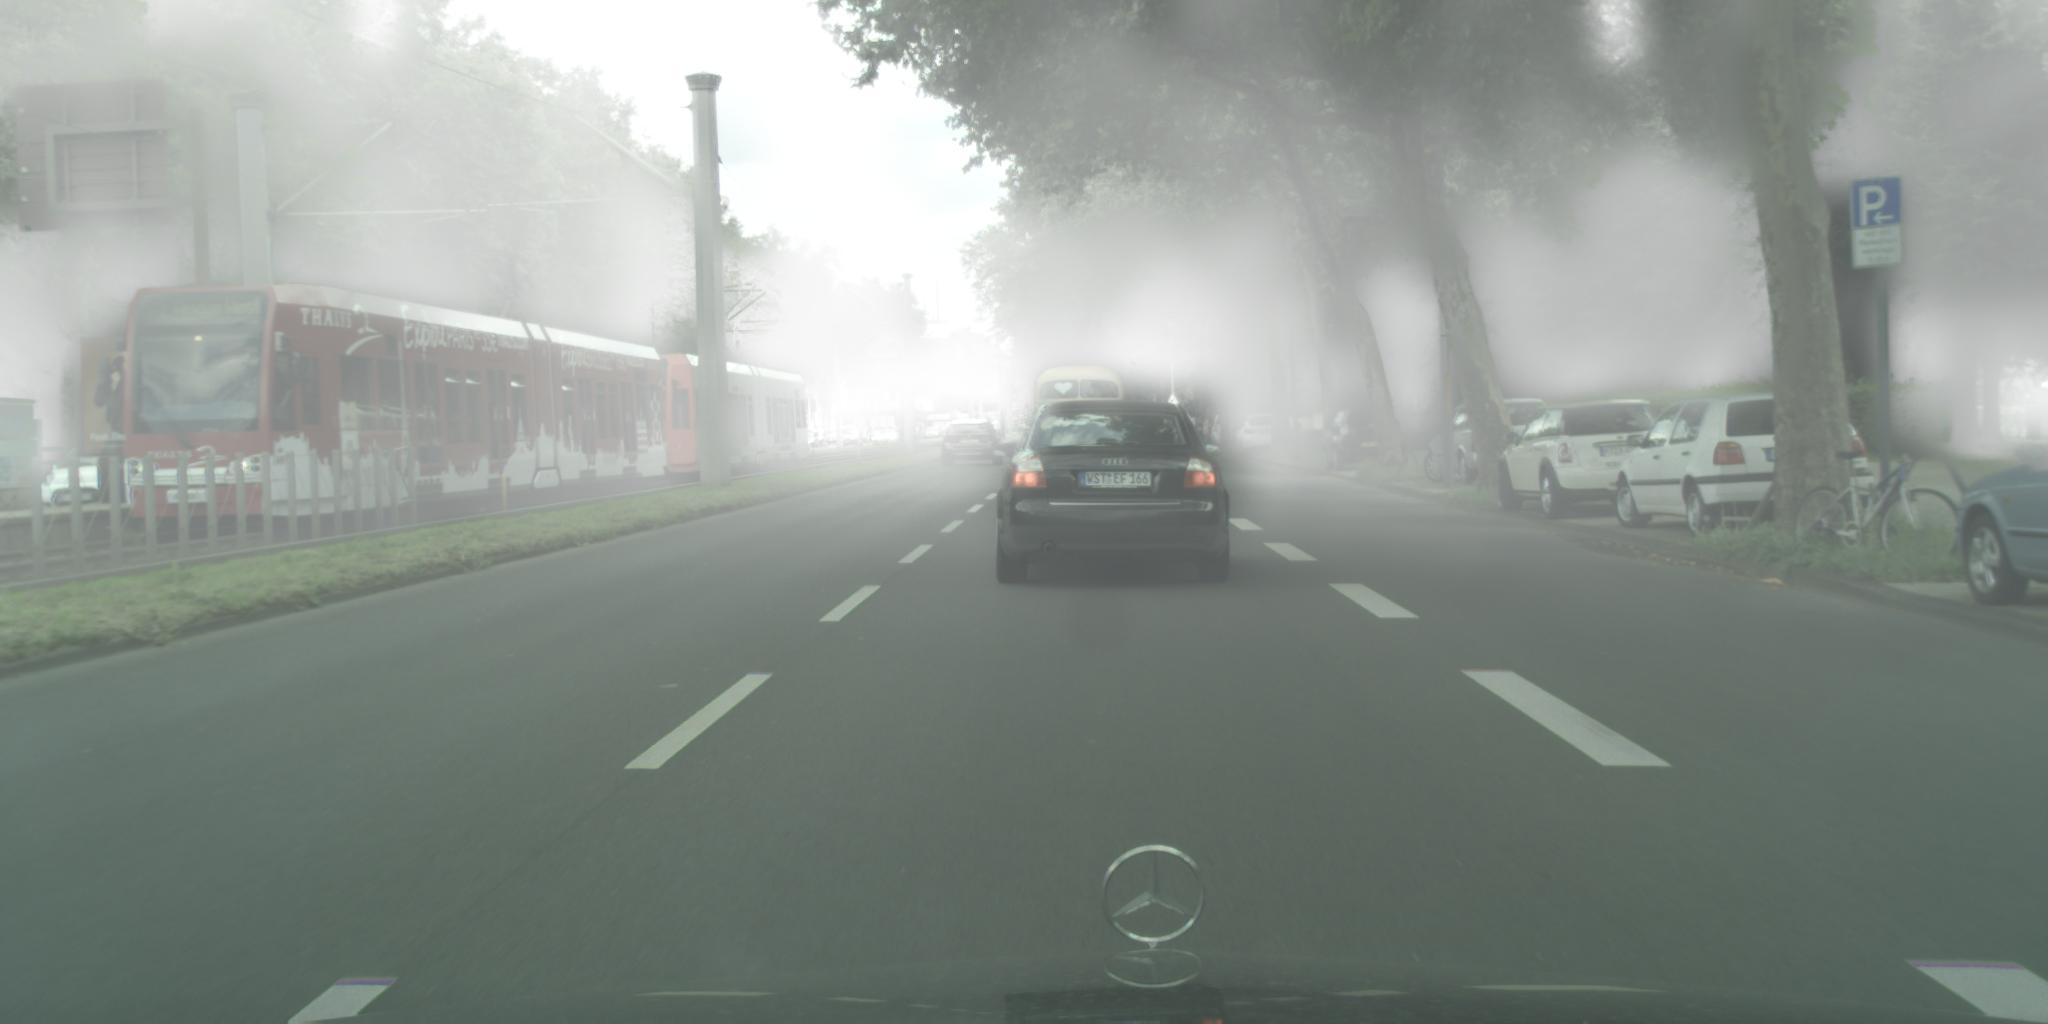bicycle: (1792, 431, 1966, 573)
car: (989, 398, 1233, 589), (1607, 387, 1883, 541), (1496, 397, 1669, 521), (1951, 387, 2045, 609), (1422, 398, 1556, 488), (35, 432, 120, 509), (1319, 404, 1411, 474), (1032, 364, 1128, 421), (938, 419, 1008, 469), (1199, 402, 1246, 448), (1234, 411, 1279, 458), (1209, 406, 1247, 448), (836, 426, 872, 448), (869, 424, 906, 445), (823, 428, 852, 449), (807, 428, 829, 451), (923, 426, 943, 443)
train: (121, 249, 814, 537)
